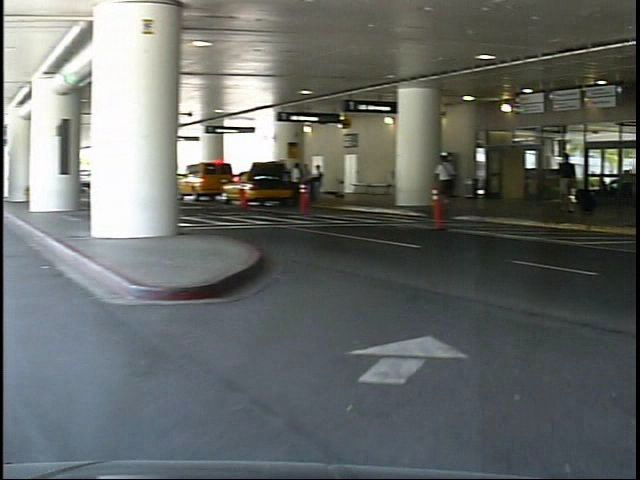person: (558, 145, 586, 221), (441, 150, 467, 215)
